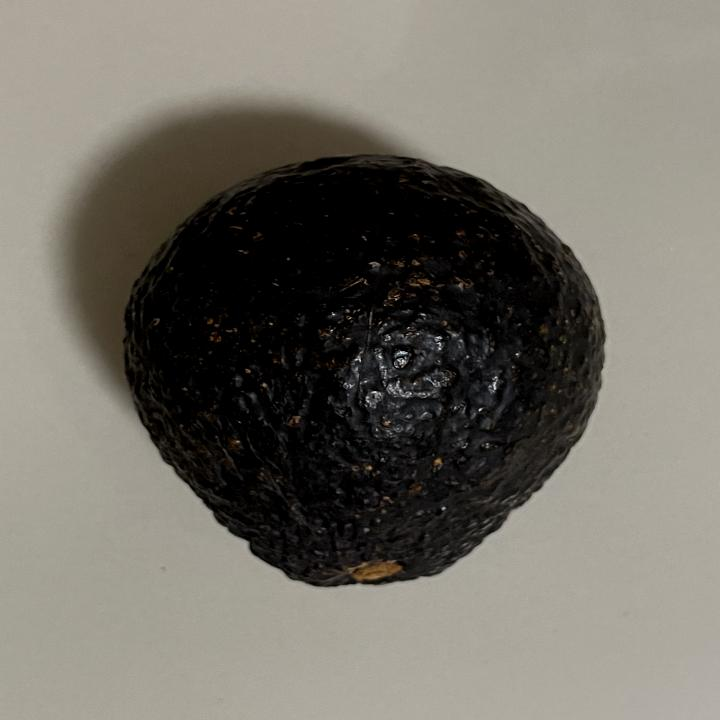Level2: (114, 149, 618, 597)
